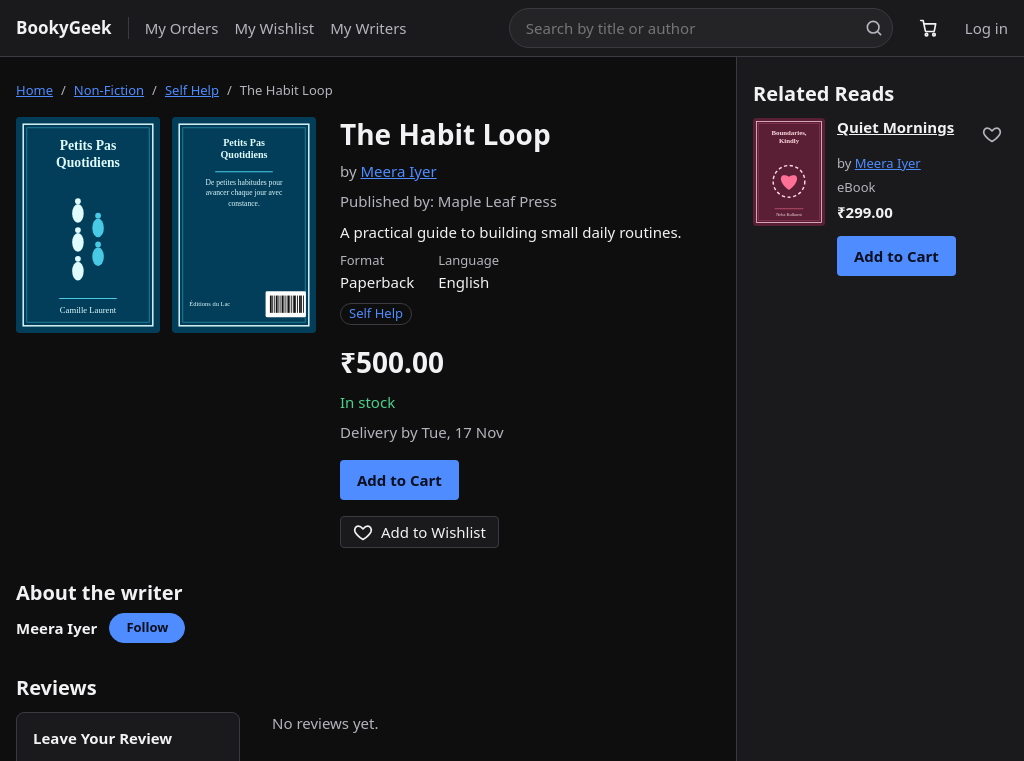
BookDetailPage › shows Related Reads as compact cards and opens a related book from its title (FR-DET-04, FR-DET-05)
This screenshot has width=1024, height=761.
Click the link "Quiet Mornings" at (896, 127), box [837, 117, 954, 137]
(page scrolled)
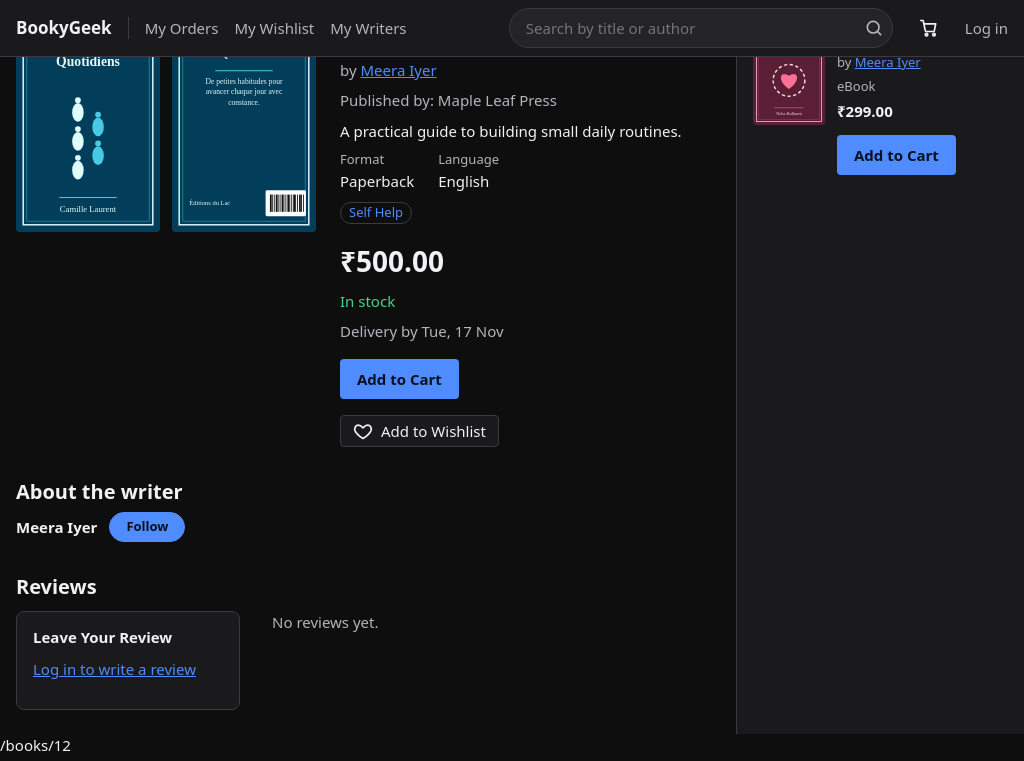
Check: the text with test id "url" reads "/books/12", box [0, 735, 71, 755]
